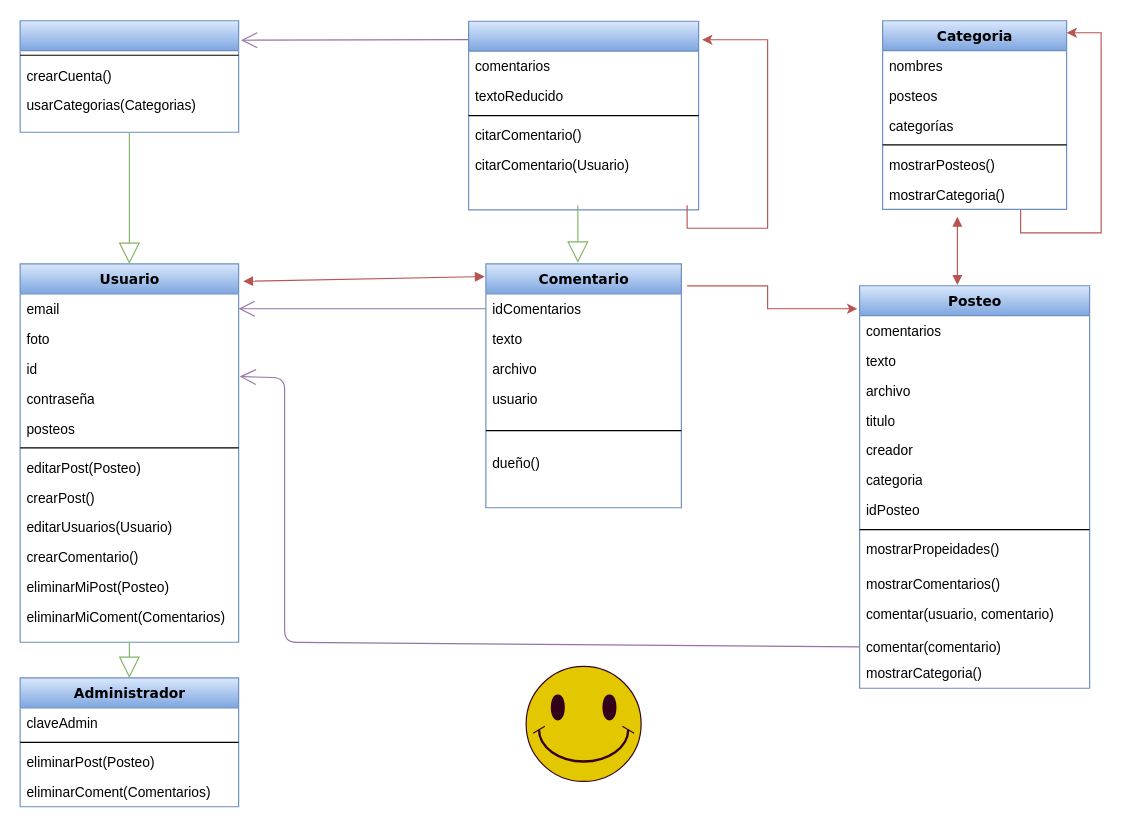
The diagram is 1130 pixels wide and 829 high, and some of its shapes have lost their labels. Each missing label, with the box of its shape:
Anonimo: (19, 20, 239, 132)
ComentarioNN: (467, 20, 699, 210)
